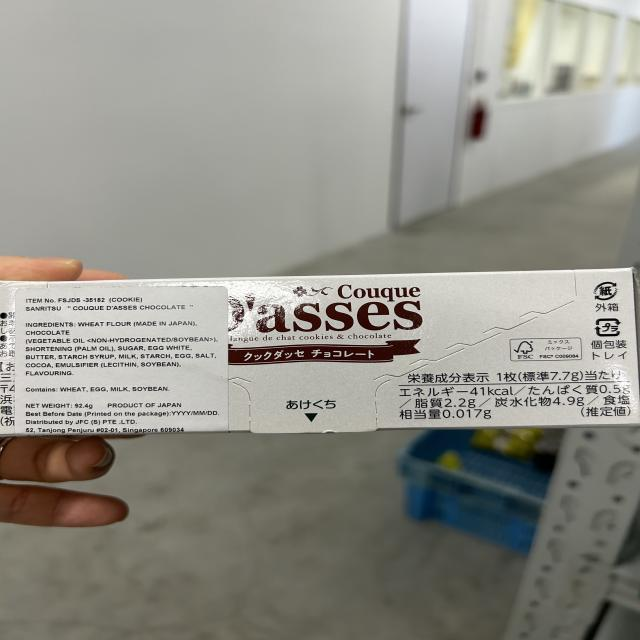object_name: (6, 281, 635, 422)
